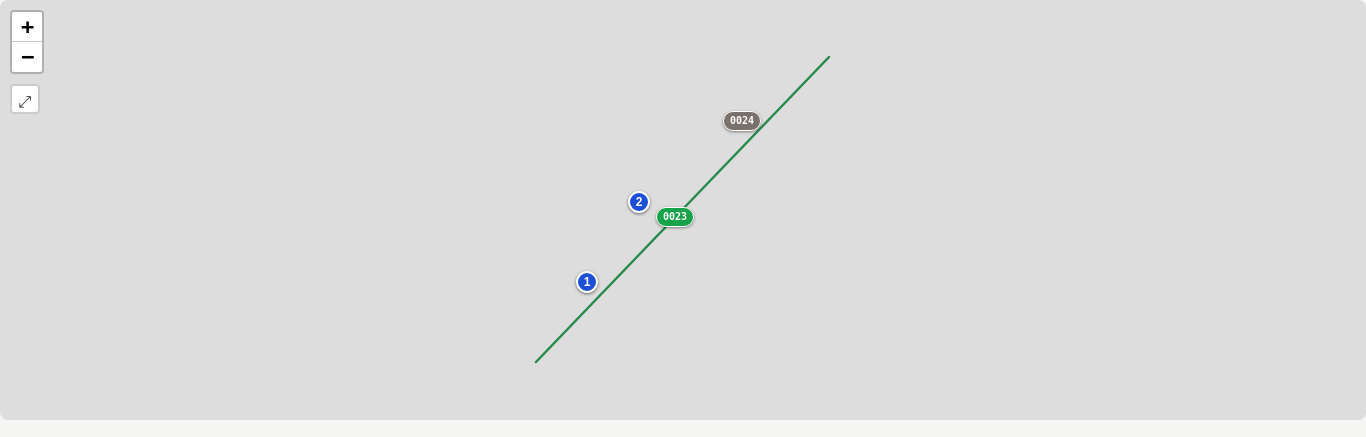
Test: TrackMap › shows how long the run stood still at a checkpoint when it is hovered
Hover over the icon titled "Checkpoint 1" at {"x": 587, "y": 282}, box left=576, top=271, right=598, bottom=293
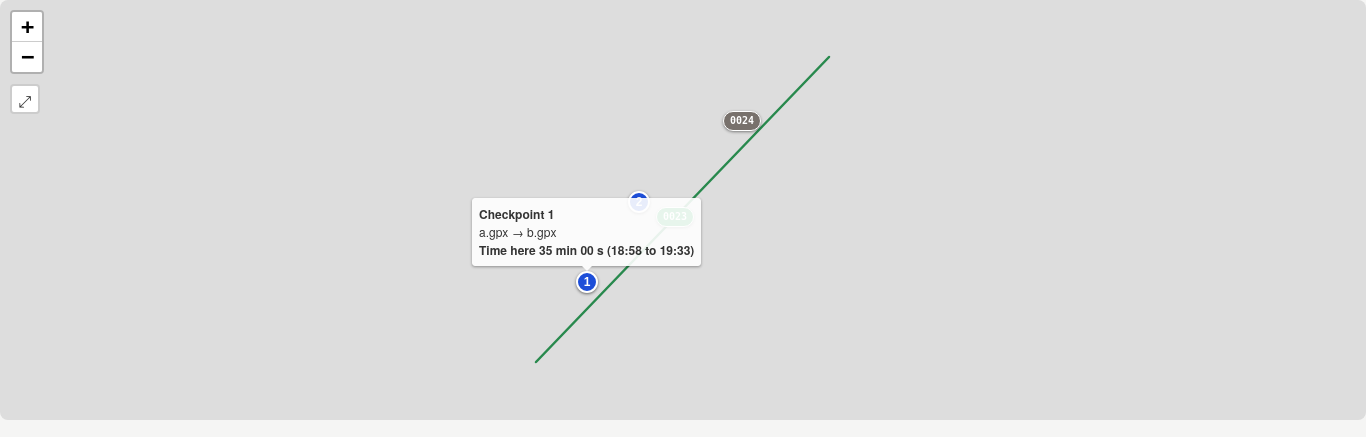
Expected: the text "Time here 35 min 00 s (18:58 to 19:33)" is shown, left=479, top=241, right=694, bottom=259
Move the pointer off the icon titled "Checkpoint 1", box left=576, top=271, right=598, bottom=293
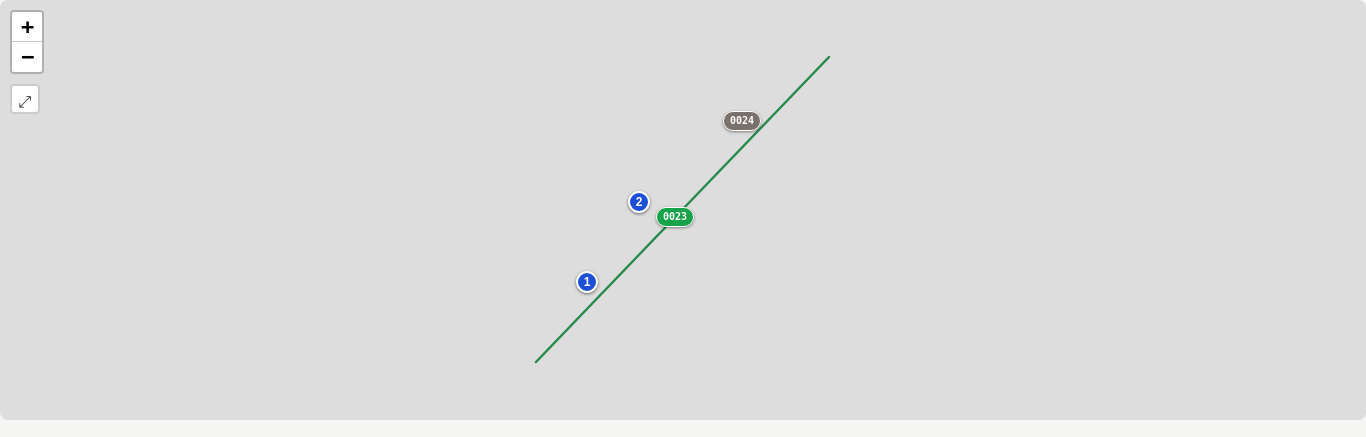
Hover over the icon titled "Checkpoint 2" at {"x": 639, "y": 202}, box left=628, top=191, right=650, bottom=213
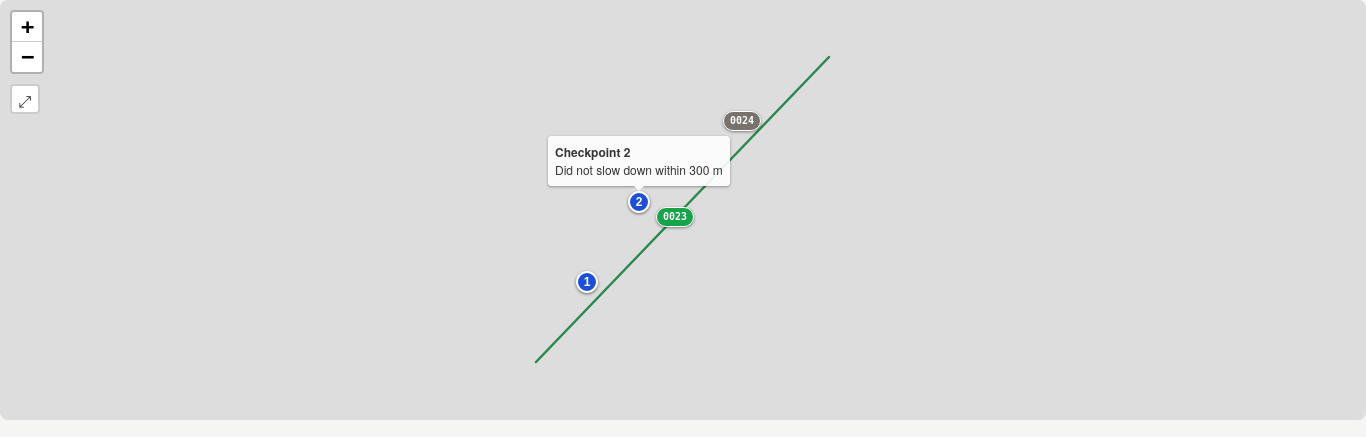
Expected: the text "Did not slow down within 300 m" is shown, left=555, top=161, right=723, bottom=179
